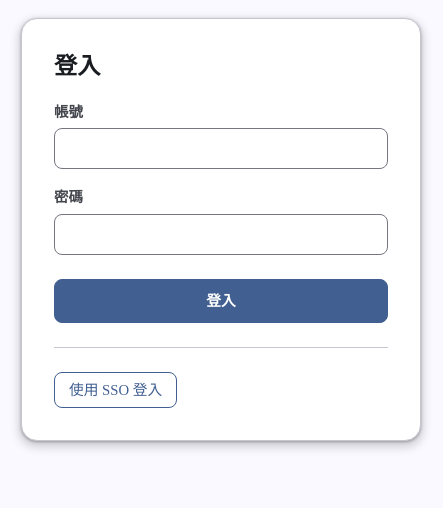
Scenario: LoginForm › shows a success message when login succeeds
The width and height of the screenshot is (443, 508).
Type "demo-user" into the field labelled "帳號" at (221, 149), box [54,128,388,169]
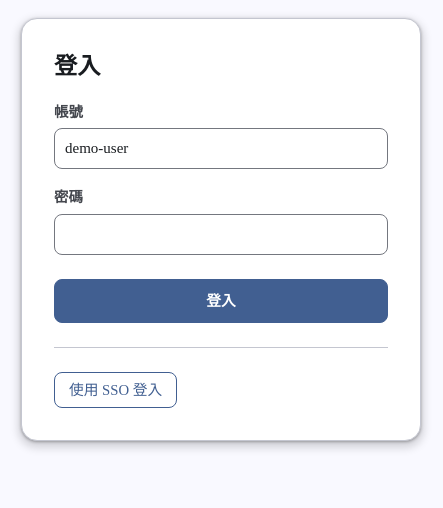
Type "demo-pass-123" into the password field labelled "密碼" at (221, 234), box [54,214,388,255]
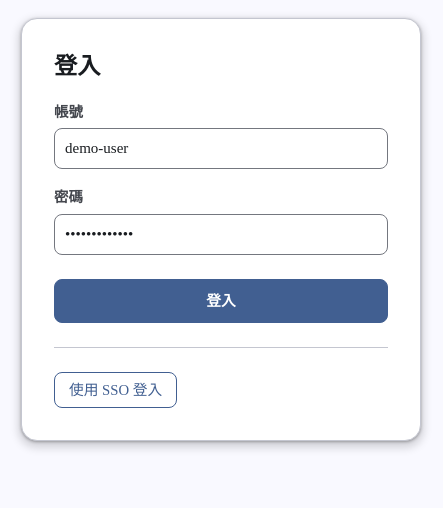
Click the button "登入" at (221, 301), box [54,279,388,323]
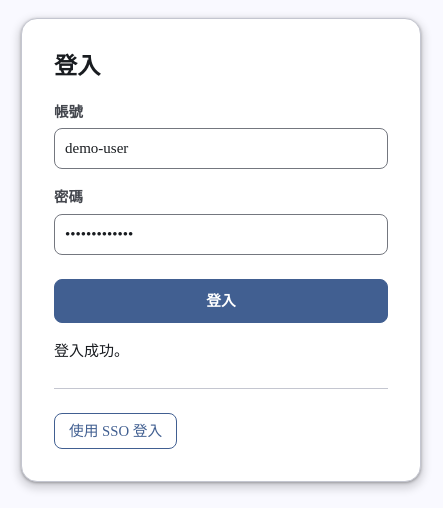
Check: the text "登入成功。" is shown, box [54,343,129,359]
